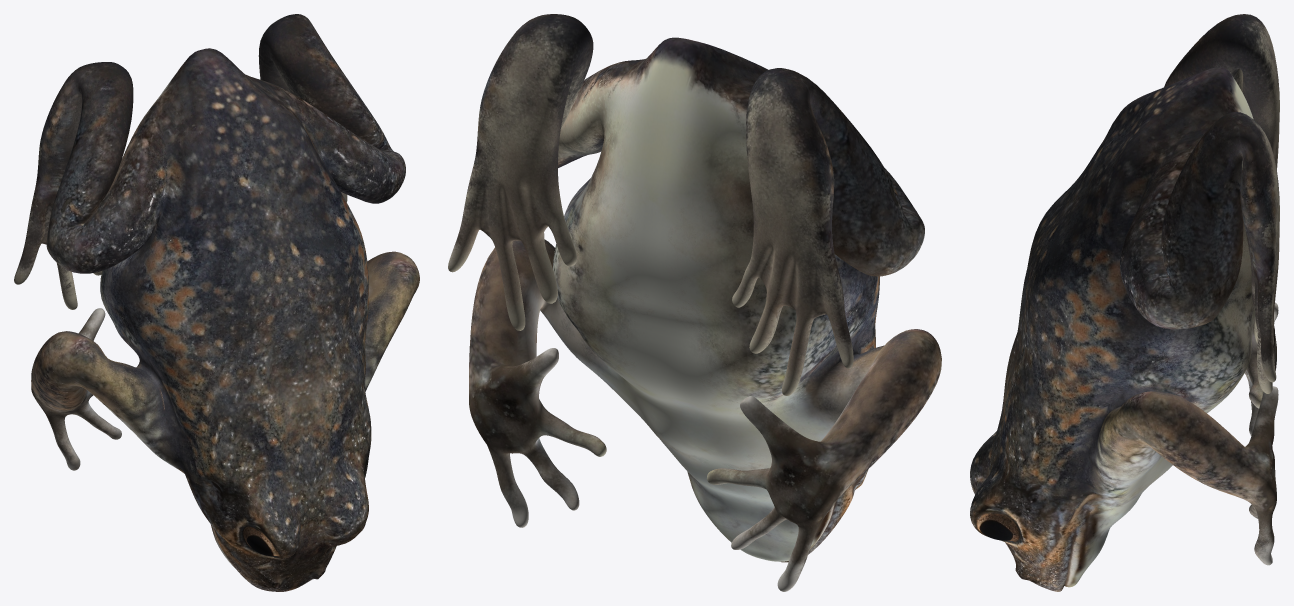
Rendered from frog.glb.
3 views of the same model, side by side, from view 1: azimuth 30°, elevation 25°; view 2: azimuth 150°, elevation 25°; view 3: azimuth 270°, elevation 25° (orthographic). The views are drawn at different scales.
Visible parts, largest first — view 1: Object_2; view 2: Object_2; view 3: Object_2.
Boxes of the visible parts, x1=… form: Object_2: x1=14, y1=14, x2=419, y2=591; Object_2: x1=448, y1=14, x2=941, y2=591; Object_2: x1=970, y1=14, x2=1279, y2=591.
Bounding box in the file's own units: 4.94 × 6.24 × 3.37.
Materials: 1 (1 with a texture image).
